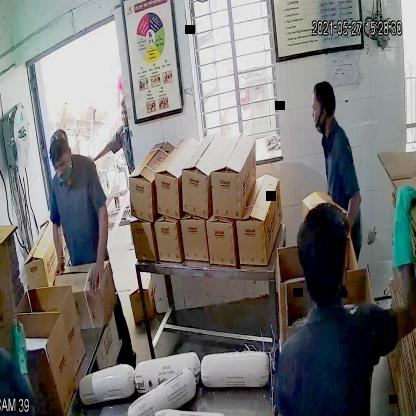no_goggles: (51, 154, 70, 172)
